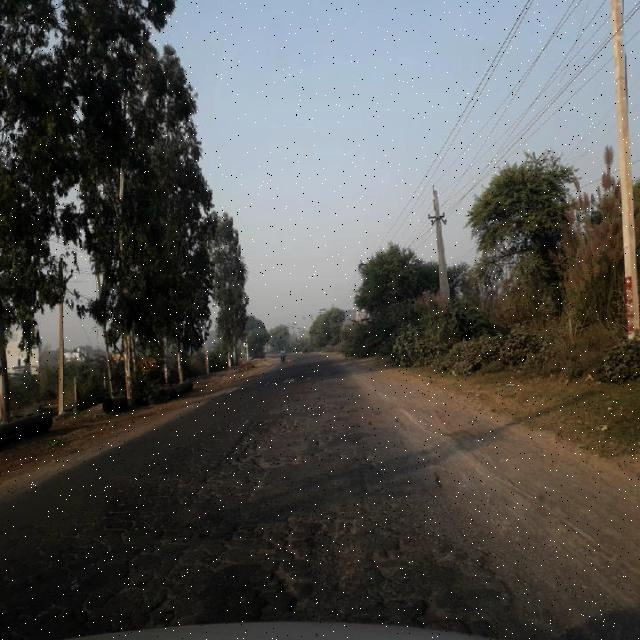D20: (43, 468, 503, 633), (176, 404, 405, 466)
